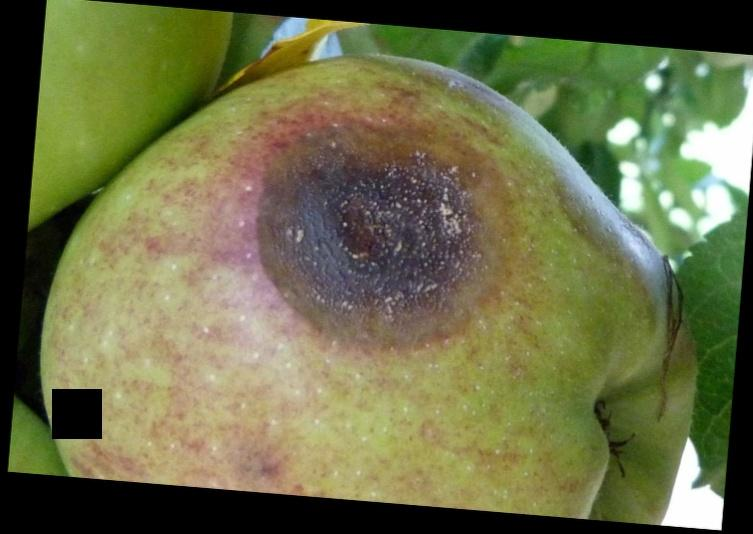rotten apple: (40, 54, 726, 501)
